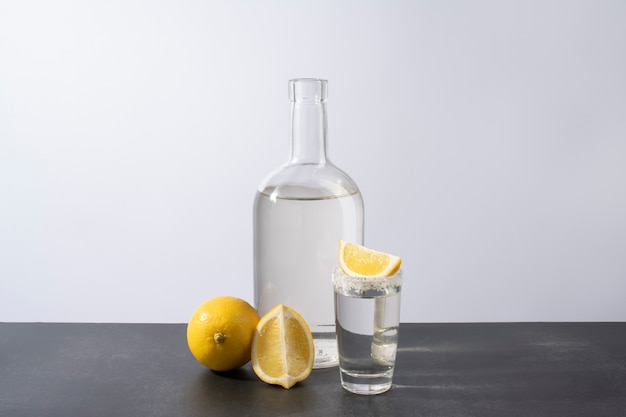alcohol: (251, 77, 366, 370), (331, 235, 403, 396)
